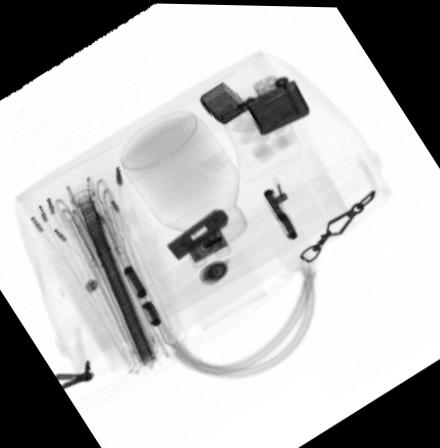Lighter: (199, 72, 309, 135)
